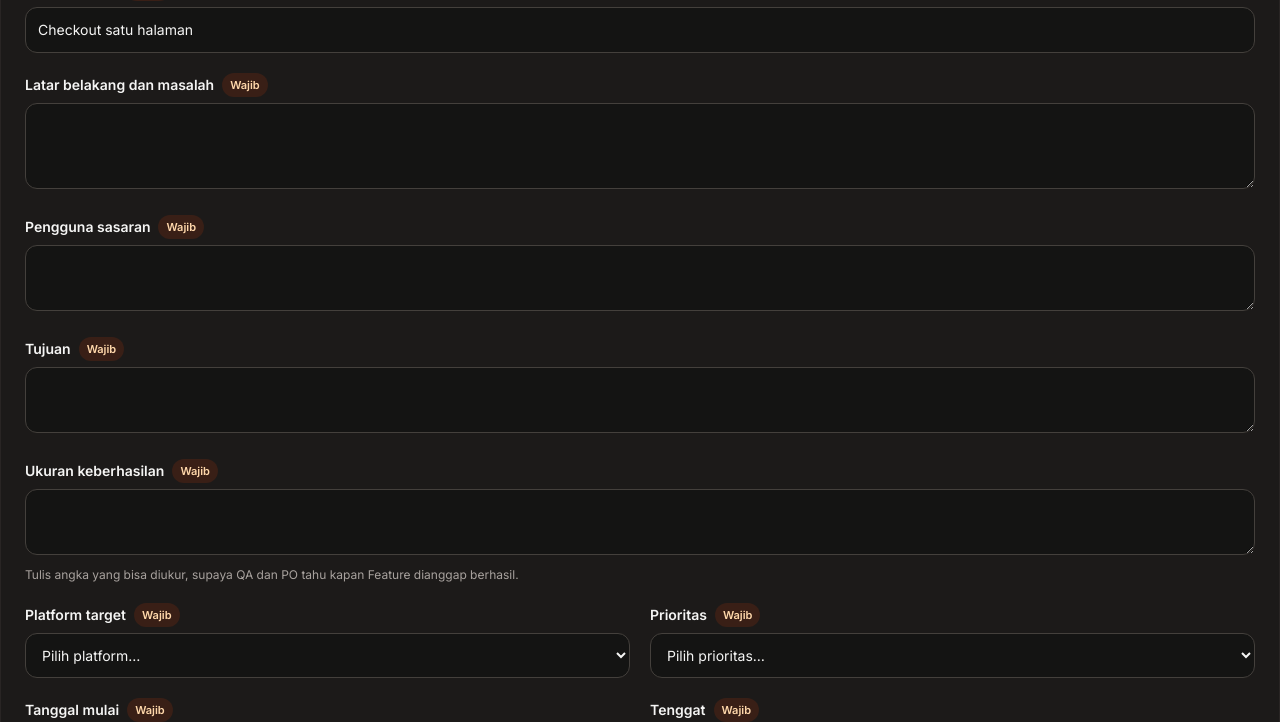
Test: FeatureSpecAiAssistant (AC-5.4) › asks to save the draft first when the Plan has unsaved edits
(page scrolled)
Type "Bayar sekali klik." into the text box labelled "Tujuan Wajib" at (640, 400), box top-left (25, 367), bottom-right (1255, 433)
(page scrolled)
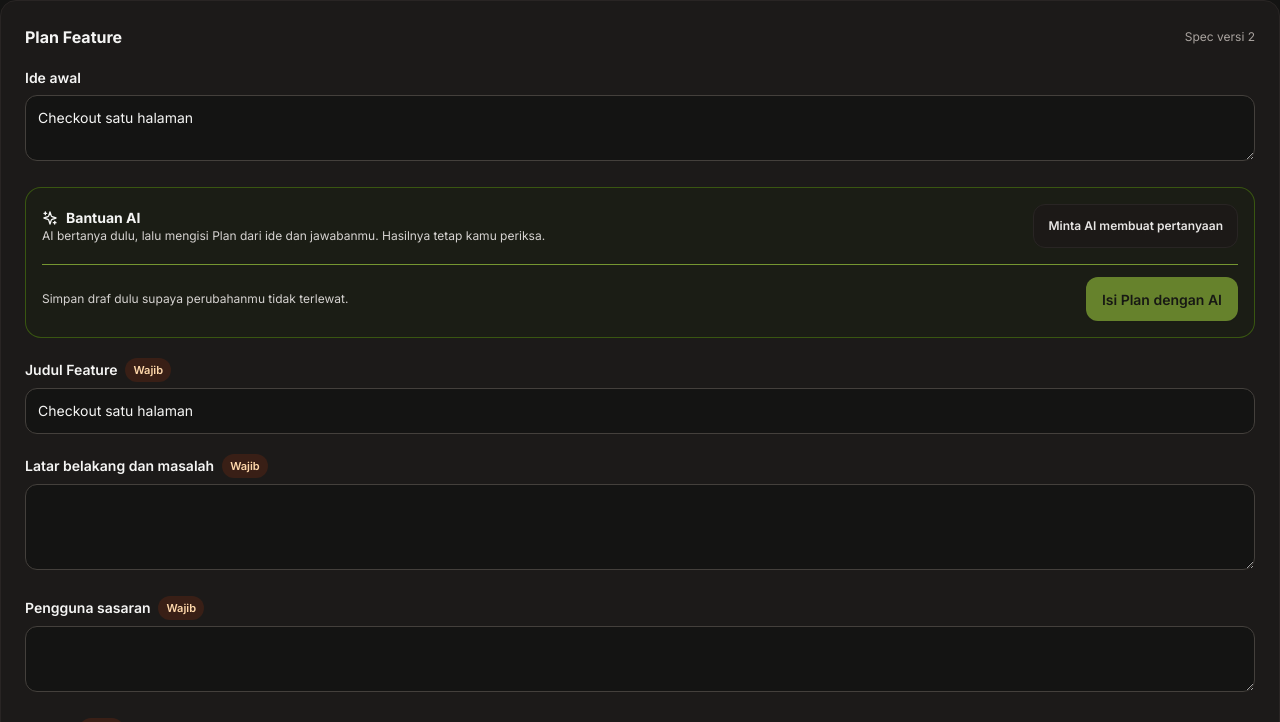
Result: the button "Isi Plan dengan AI" is disabled at top-left (1086, 277), bottom-right (1238, 321)
Result: the text "Simpan draf dulu supaya perubahanmu tidak terlewat." is shown at top-left (42, 291), bottom-right (348, 307)
